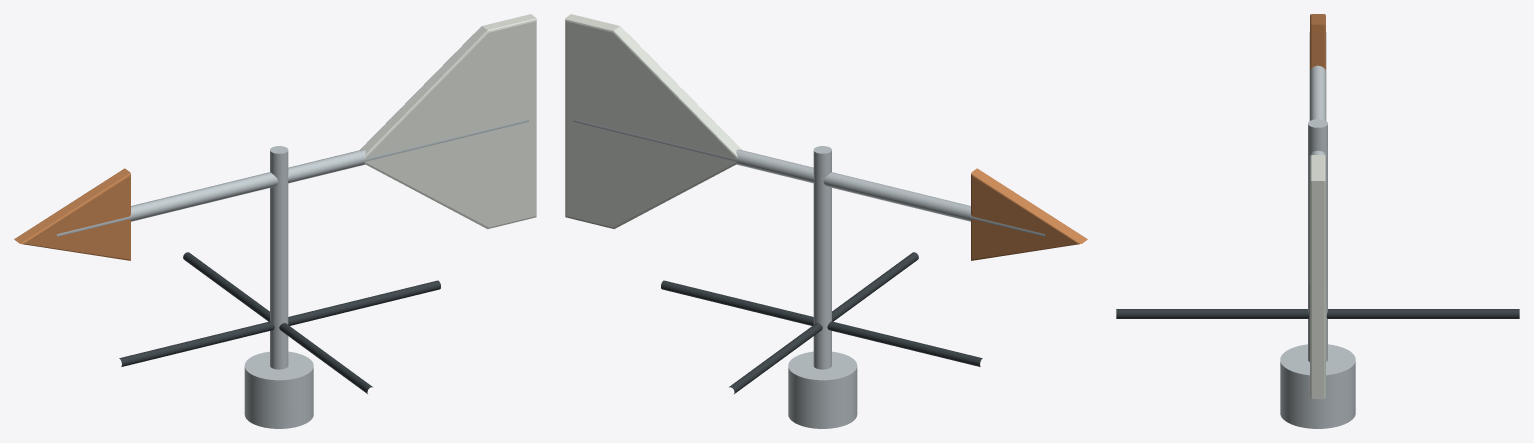
File: abandoned-weather-station-and-storm-shelter-wind-vane-10d0e2ee__31022.glb
The picture shows the model from 3 angles, left to right: view 1: azimuth 30°, elevation 25°; view 2: azimuth 150°, elevation 25°; view 3: azimuth 270°, elevation 25°; orthographic projection. The views are drawn at different scales.
Parts seen in each view (by area): view 1: wind-vane; view 2: wind-vane; view 3: wind-vane.
Boxes of the visible parts, left/top/right/bottom form: wind-vane: left=14, top=14, right=536, bottom=428; wind-vane: left=565, top=14, right=1087, bottom=428; wind-vane: left=1116, top=14, right=1519, bottom=428.
Bounding box in the file's own units: 0.7772 × 0.483 × 0.48.
